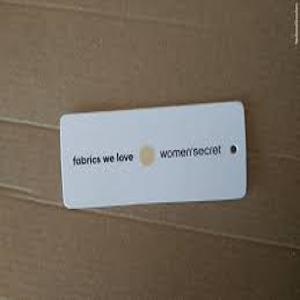women_secret: (157, 145, 224, 162)
